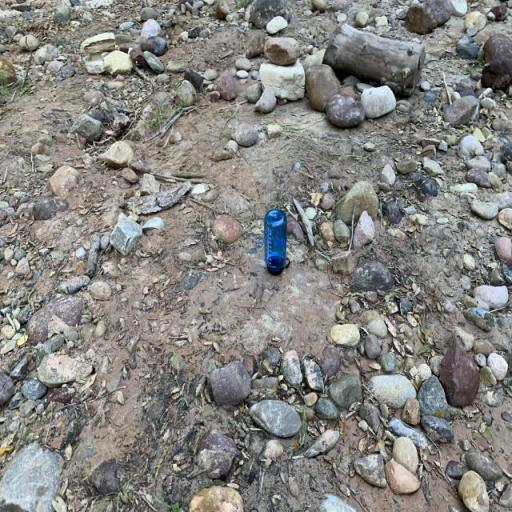bottle: (264, 209, 291, 275)
